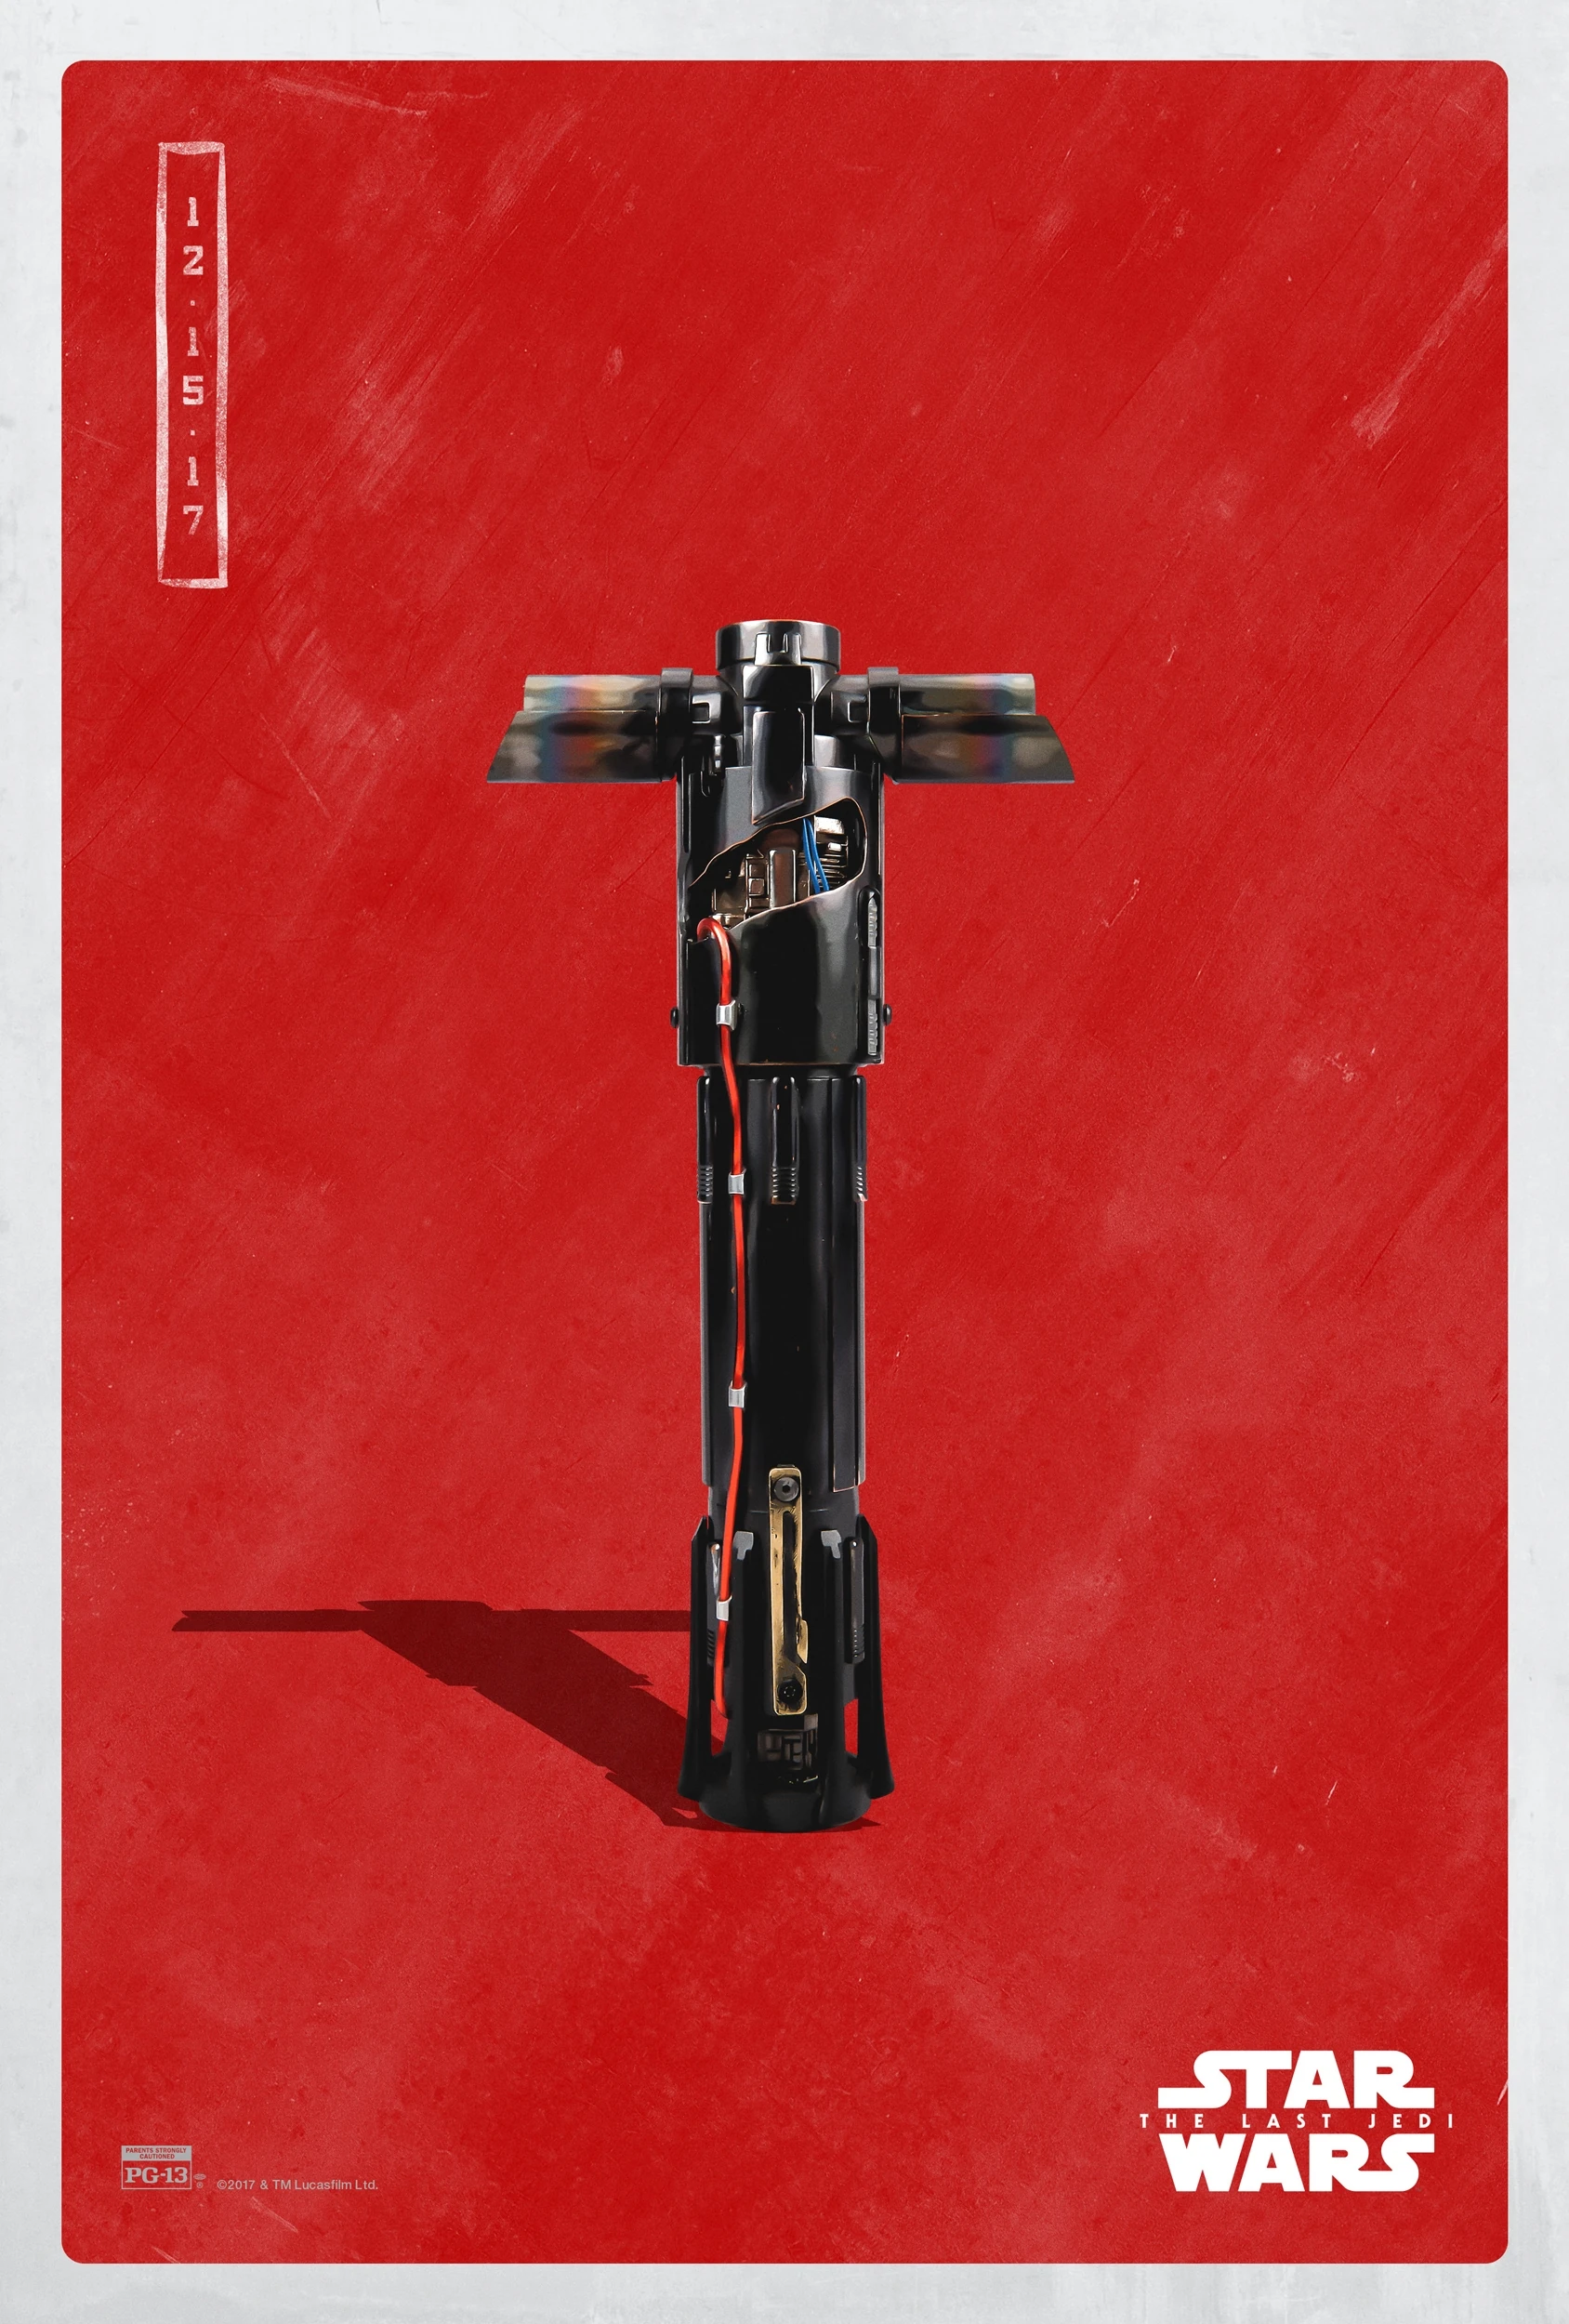Dalek: (499, 601, 1079, 1839)
